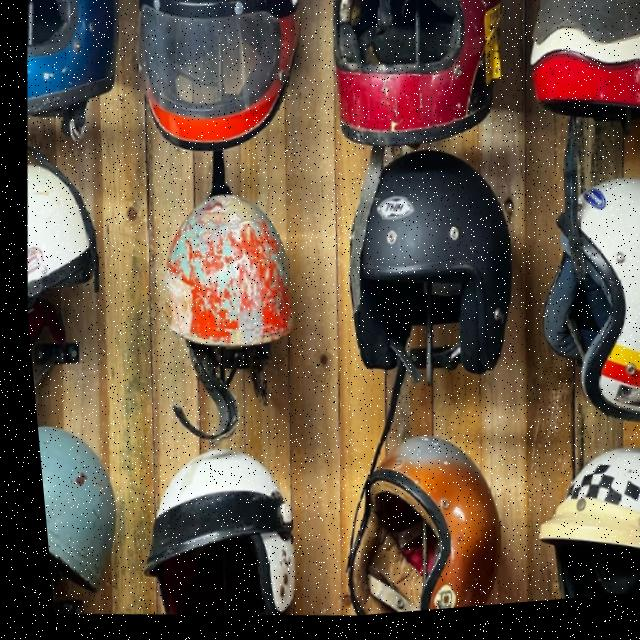helmet: (320, 137, 530, 410), (115, 0, 317, 179), (114, 437, 302, 629)
illegal_helmet: (127, 175, 311, 460), (29, 414, 125, 605)
